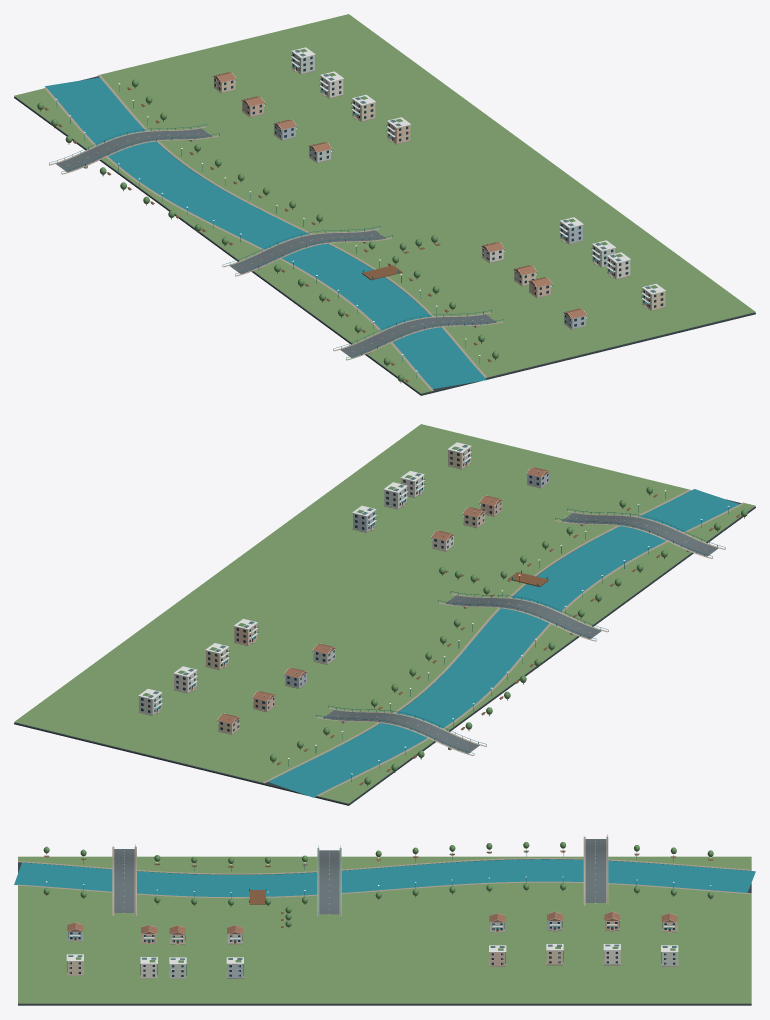
Rendered from waterfront-world.glb.
3 views of the same model, one above another, from view 1: azimuth 30°, elevation 25°; view 2: azimuth 150°, elevation 25°; view 3: azimuth 270°, elevation 25° (orthographic). The views are drawn at different scales.
Visible parts, largest first — view 1: RiverDistrict, RiverWater, RiverParkFurniture; view 2: RiverDistrict, RiverWater, RiverParkFurniture; view 3: RiverDistrict, RiverWater, RiverParkFurniture, RiverHome5, RiverHome1.001, RiverHome3.001, RiverHome1, RiverHome3, RiverHome9, RiverHome7, RiverHome5.001, RiverHome8 (+2 smaller).
Part boxes in pixels (x1,y1,x2,y2): RiverDistrict: (14,14,755,395); RiverWater: (45,77,486,388); RiverParkFurniture: (37,79,498,382); RiverDistrict: (14,424,755,805); RiverWater: (268,489,739,797); RiverParkFurniture: (270,486,747,786); RiverDistrict: (18,834,751,1005); RiverWater: (14,859,755,896); RiverParkFurniture: (43,842,713,928); RiverHome5: (546,944,563,965); RiverHome1.001: (169,957,186,978); RiverHome3.001: (140,957,157,978); RiverHome1: (661,945,678,966); RiverHome3: (603,944,620,965); RiverHome9: (226,957,243,978); RiverHome7: (489,945,506,966); RiverHome5.001: (66,954,83,975); RiverHome8: (227,925,243,944).
Bounding box in the file's own units: 193 × 9.42 × 362.
